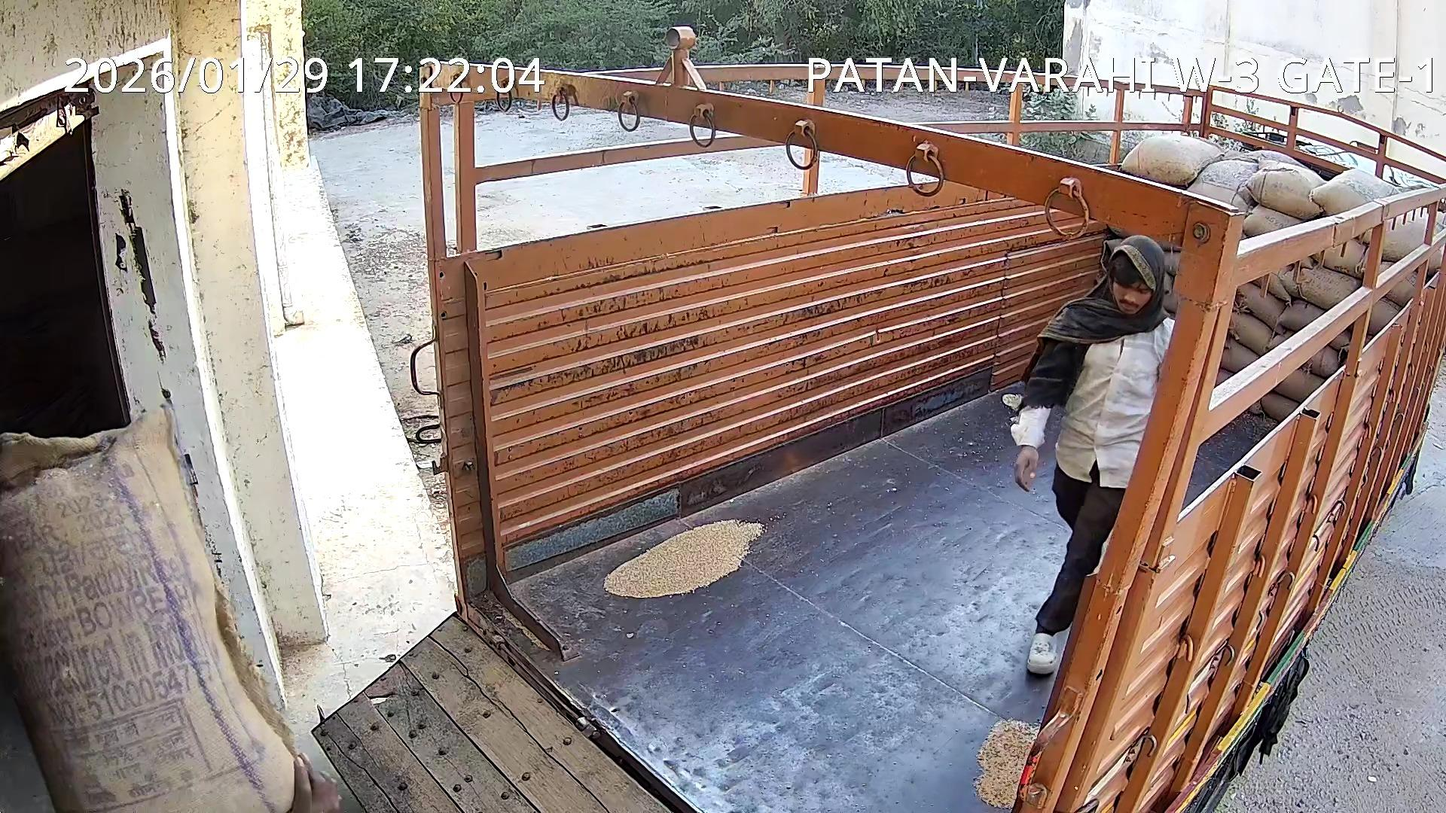Sack: (0, 410, 293, 812)
